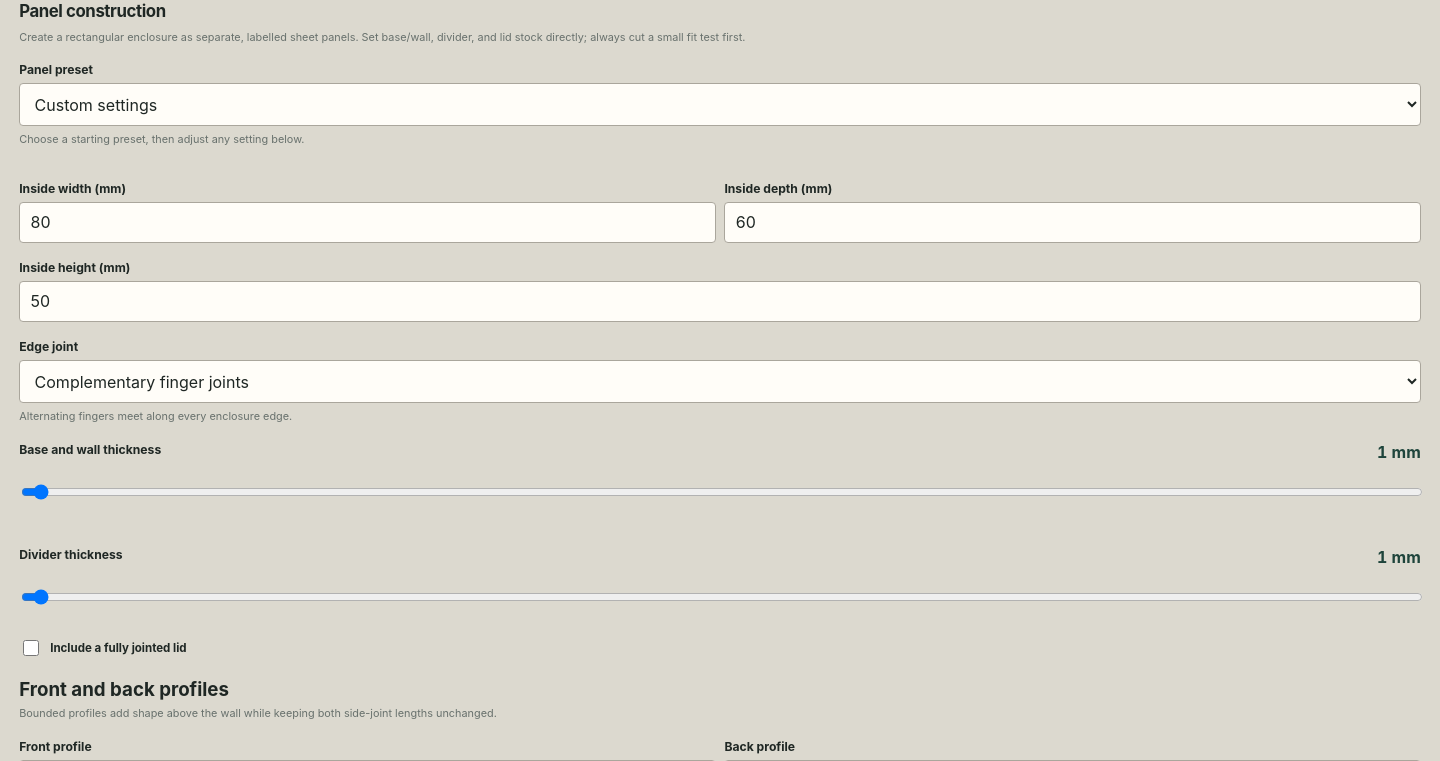
PanelConstructionPanel › keeps finger width and slot clearance available for dividers with butt walls
The width and height of the screenshot is (1440, 761).
Select "Straight butt joints" in the dropdown labelled "Edge joint" at (720, 382), box top-left (19, 360), bottom-right (1421, 403)
(page scrolled)
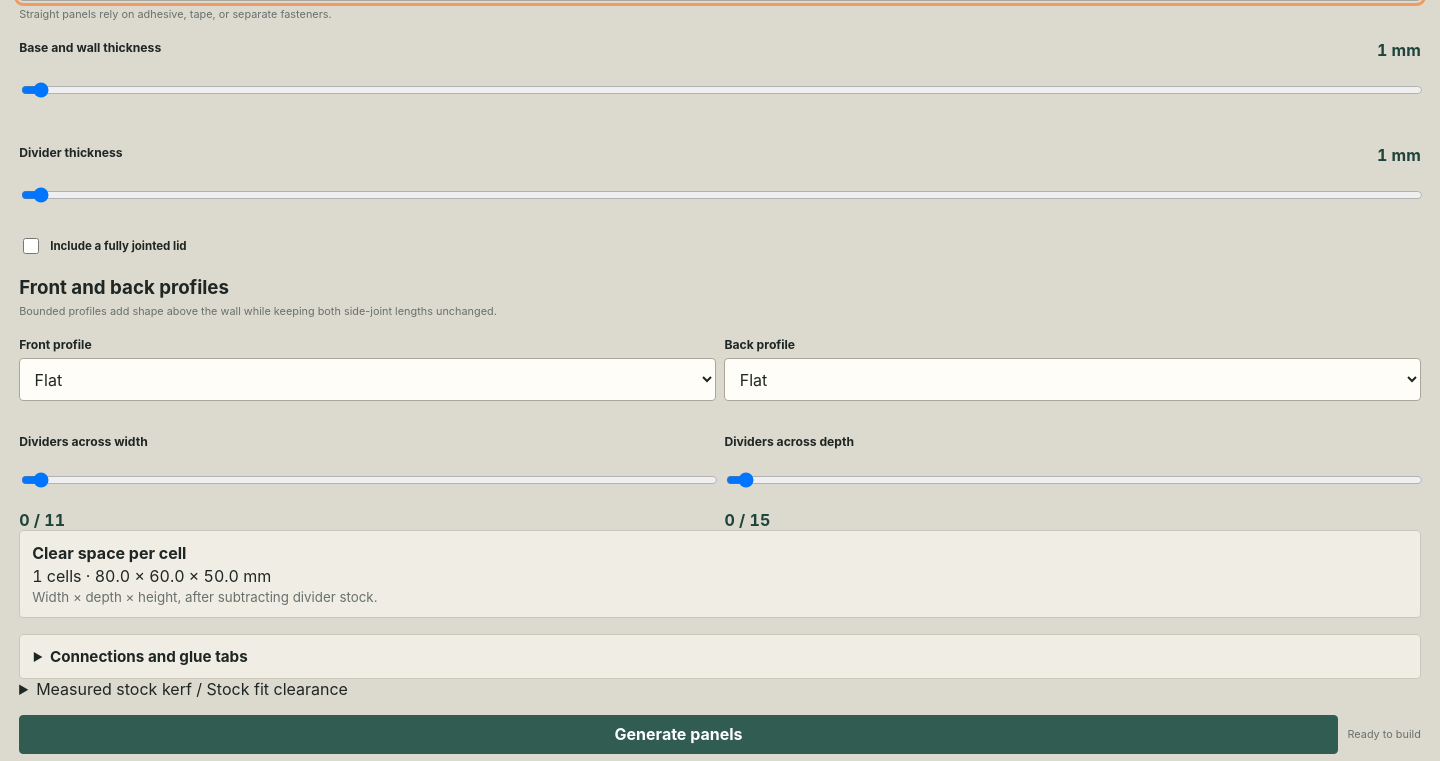
Expected: the field labelled "Target finger width (mm)" is not shown
Set the slider labelled "Dividers across width" to "1" at (91, 480), box top-left (21, 458), bottom-right (718, 502)
(page scrolled)
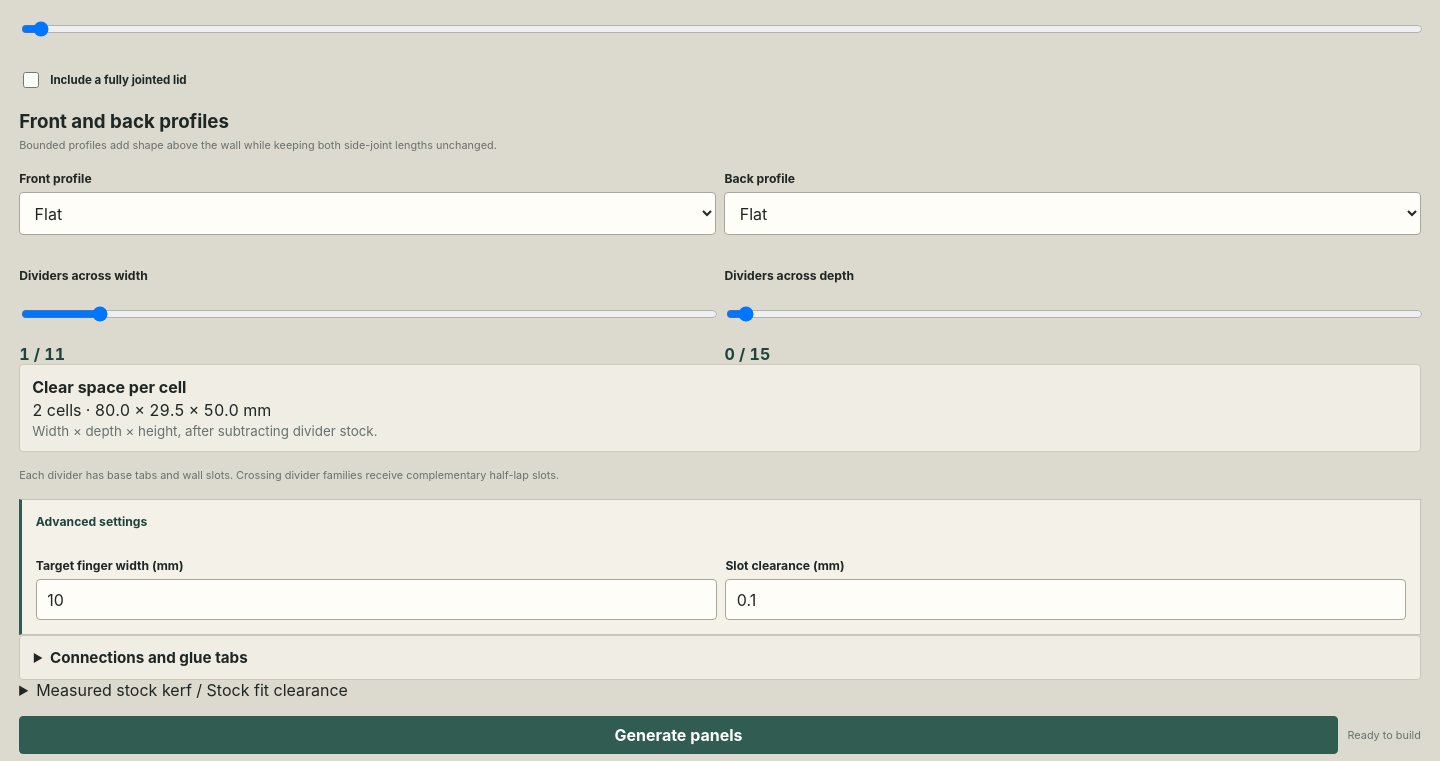
Result: the number field labelled "Target finger width (mm)" is enabled at top-left (36, 580), bottom-right (717, 620)
Result: the number field labelled "Slot clearance (mm)" is enabled at top-left (725, 580), bottom-right (1406, 620)
Result: the text "base tabs and wall slots" is shown at top-left (19, 468), bottom-right (559, 482)
